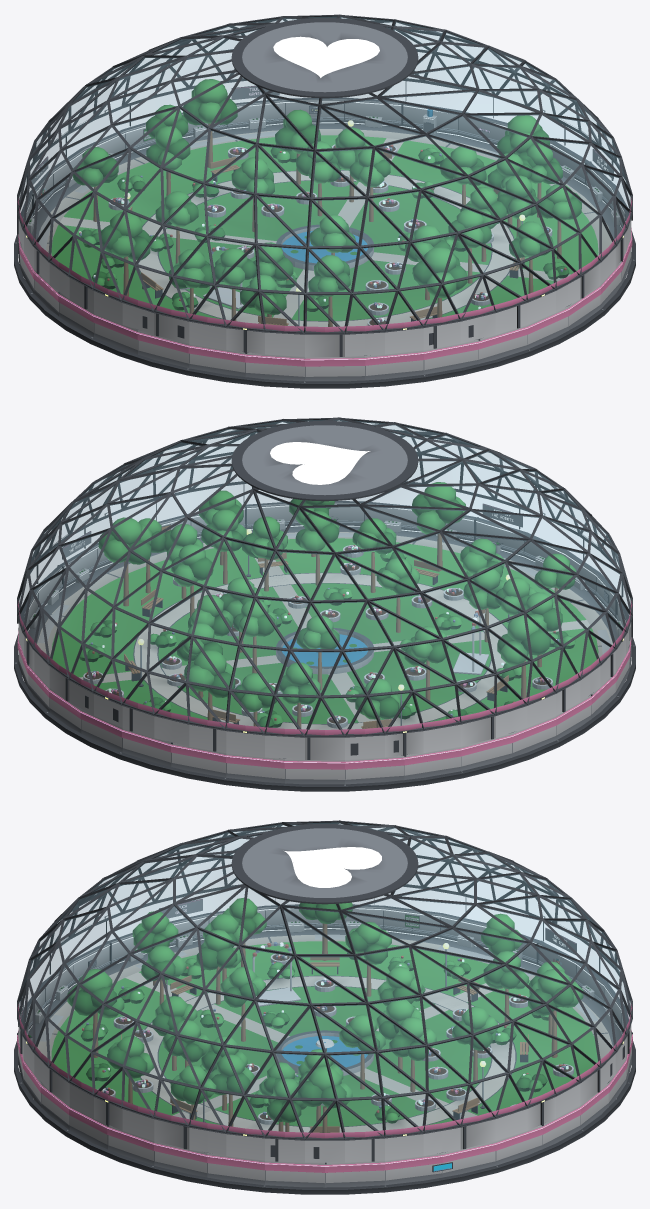
The model's file is park_xl.glb.
The picture shows the model from 3 angles, top to bottom: view 1: azimuth 30°, elevation 25°; view 2: azimuth 150°, elevation 25°; view 3: azimuth 270°, elevation 25°; orthographic projection.
Visible parts, largest first — view 1: Roof, Interior, Base, Wall_20, Wall_21, Upper_21, Wall_22, Upper_20, Upper_22, Wall_19, Wall_23, Upper_19 (+27 smaller); view 2: Roof, Interior, Base, Wall_11, Wall_10, Wall_09, Upper_10, Upper_09, Wall_12, Wall_08, Upper_12, Upper_08 (+26 smaller); view 3: Roof, Interior, Base, Wall_00, Wall_31, Upper_00, Wall_30, Upper_01, Upper_30, Wall_01, Upper_31, Wall_29 (+25 smaller).
Part boxes in pixels (box(x1,y1,x2,y2)): Roof: box(17, 14, 632, 334); Interior: box(38, 79, 598, 326); Base: box(14, 123, 635, 388); Wall_20: box(245, 352, 304, 381); Wall_21: box(305, 355, 365, 381); Upper_21: box(305, 331, 364, 356); Wall_22: box(365, 350, 423, 380); Upper_20: box(245, 328, 304, 356); Upper_22: box(365, 326, 423, 355); Wall_19: box(188, 344, 245, 377); Wall_23: box(423, 339, 478, 374); Upper_19: box(189, 319, 245, 352); Roof: box(17, 417, 632, 737); Interior: box(38, 482, 610, 729); Base: box(14, 526, 635, 791); Wall_11: box(345, 755, 404, 784); Wall_10: box(284, 758, 344, 784); Wall_09: box(226, 753, 284, 783); Upper_10: box(285, 734, 344, 759); Upper_09: box(226, 729, 284, 758); Wall_12: box(404, 747, 461, 779); Wall_08: box(171, 742, 226, 777); Upper_12: box(404, 722, 460, 755); Upper_08: box(171, 718, 226, 752); Roof: box(17, 820, 632, 1140); Interior: box(40, 898, 598, 1132); Base: box(14, 929, 635, 1194); Wall_00: box(325, 1160, 384, 1187); Wall_31: box(265, 1160, 324, 1187); Upper_00: box(325, 1136, 384, 1162); Wall_30: box(207, 1152, 264, 1185); Upper_01: box(385, 1128, 442, 1160); Upper_30: box(207, 1128, 264, 1160); Wall_01: box(385, 1152, 442, 1185); Upper_31: box(265, 1136, 324, 1162); Wall_29: box(154, 1141, 207, 1177).
Bounding box in the file's own units: 29.74 × 10.56 × 29.74.
